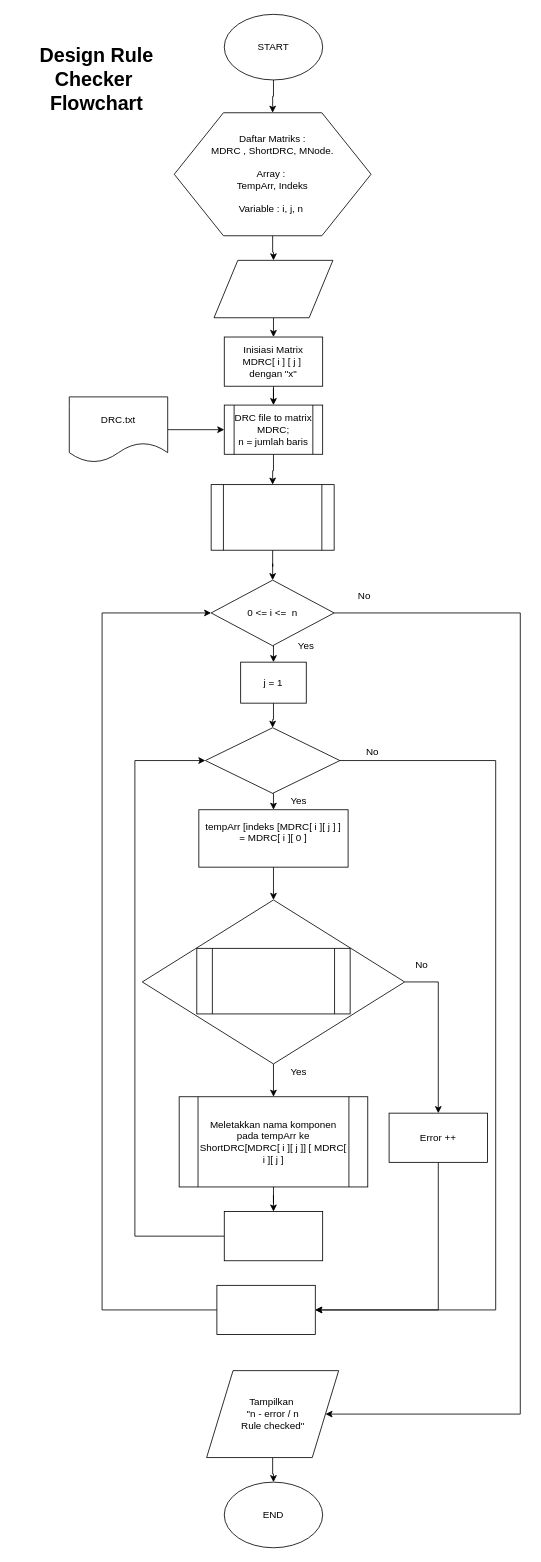
This 541x1562 diagram has some shape labels left out. Here are the shapes that lost their labels. From the top down, the centre of each, then its label:
point (273, 289): matriks layout dan routing
point (272, 517): Pengelompokan komponen pada layout yang saling terhubung ke dalam MNode
point (272, 760): while MDRC[ i ] [ j ] != "x"
point (273, 981): Memeriksa tempArr merupakan subarray dari salah satu baris pada MNode atau tidak
point (273, 1236): j++
point (265, 1310): i++
